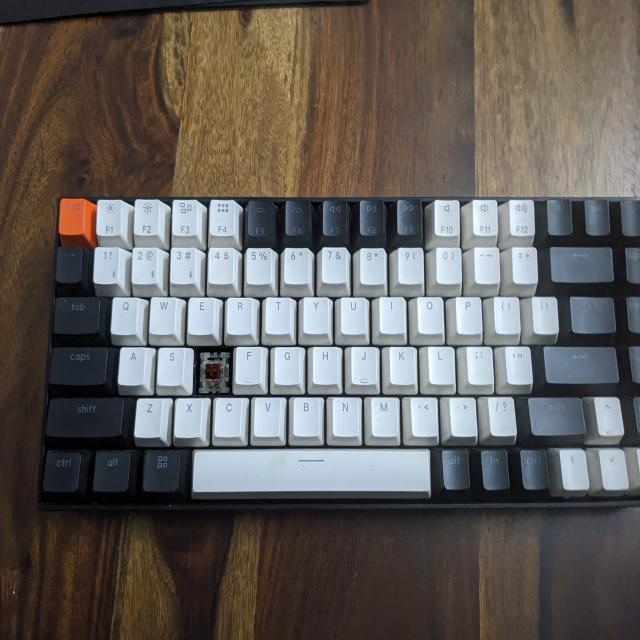C: (196, 348, 234, 395)
